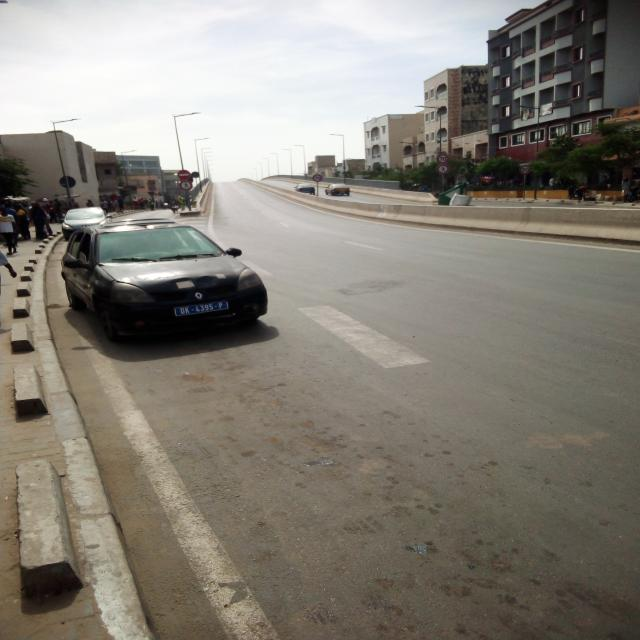particulier: (63, 220, 269, 341), (63, 209, 108, 241), (296, 185, 316, 196)
taxi: (326, 185, 351, 197)
